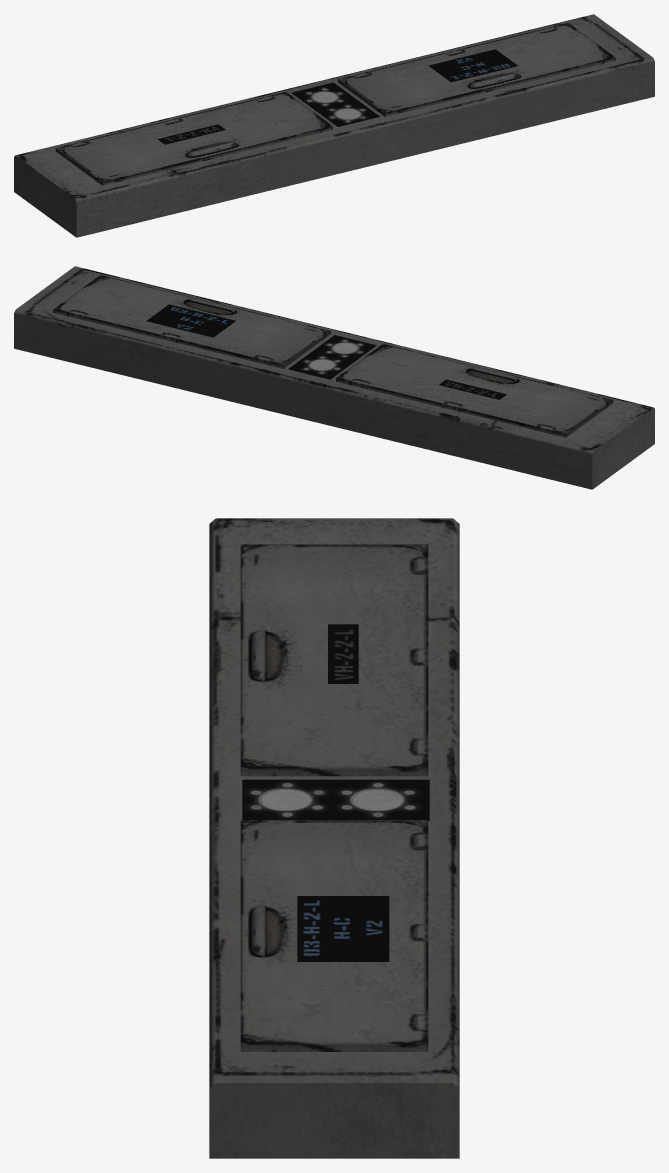
Rendered from p6_blackout_panel_flooring_hatch_lod1.glb.
3 renders of one model, top to bottom at view 1: azimuth 30°, elevation 25°; view 2: azimuth 150°, elevation 25°; view 3: azimuth 270°, elevation 25°, orthographic. The views are drawn at different scales.
Parts seen in each view (by area): view 1: surf0, surf2, surf1; view 2: surf0, surf2, surf1; view 3: surf0, surf2, surf1.
Boxes of the visible parts, x1,y1,x2,y2 form: surf0: [14, 14, 654, 237]; surf2: [157, 49, 517, 144]; surf1: [291, 82, 379, 126]; surf0: [14, 266, 654, 489]; surf2: [146, 304, 506, 399]; surf1: [288, 335, 376, 379]; surf0: [209, 518, 459, 1158]; surf2: [297, 624, 389, 961]; surf1: [242, 779, 429, 820].
Bounding box in the file's own units: 128 × 9.31 × 24.
